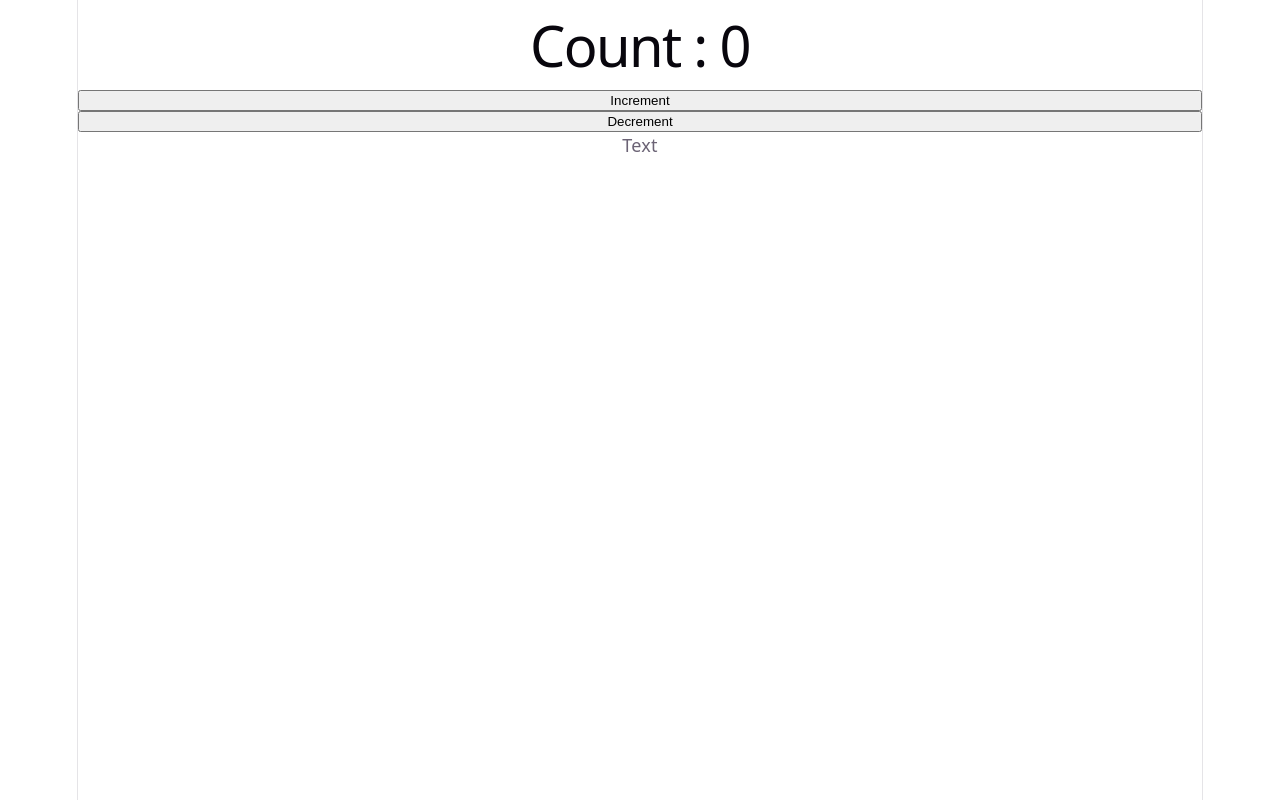
Scenario: check inc for button click
Click the button "Increment" at (640,101), box left=78, top=90, right=1202, bottom=111
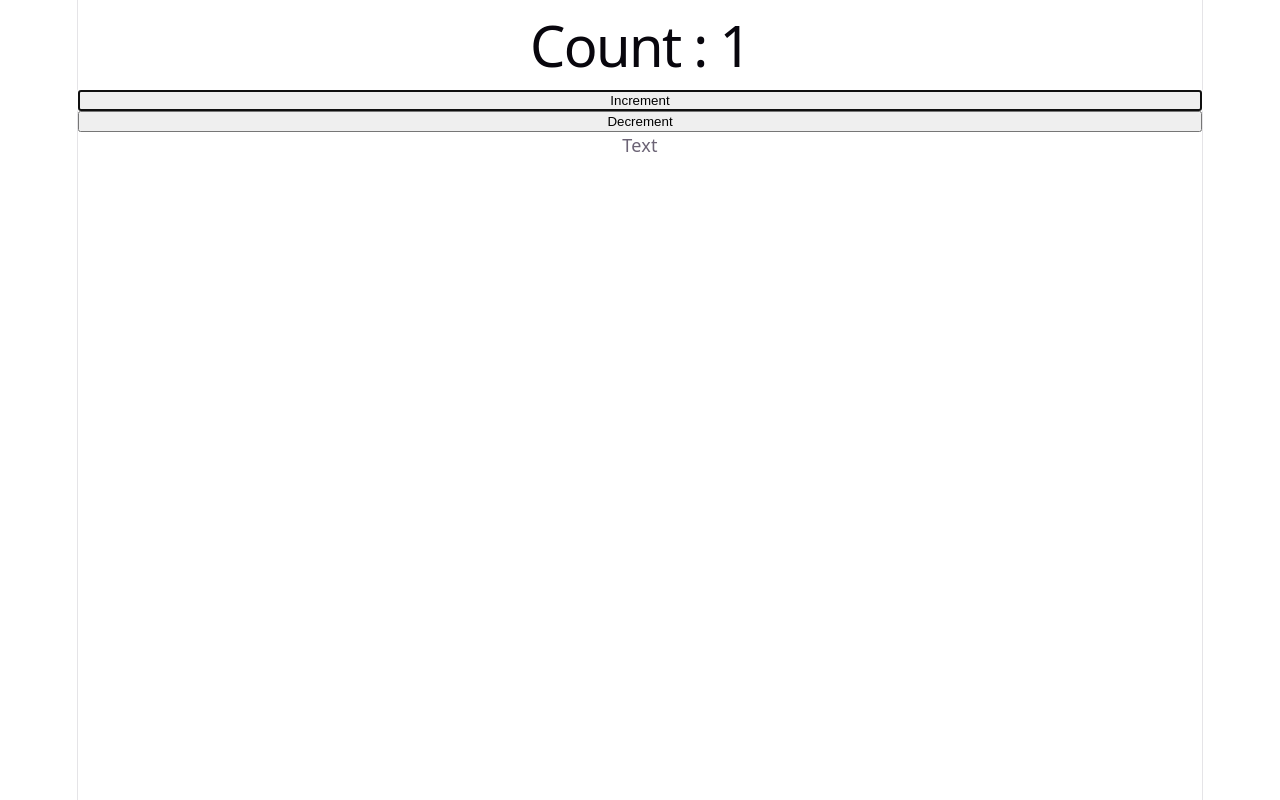
Now the heading with test id "h1-counter-props" reads "Count : 1", box left=530, top=7, right=750, bottom=83
